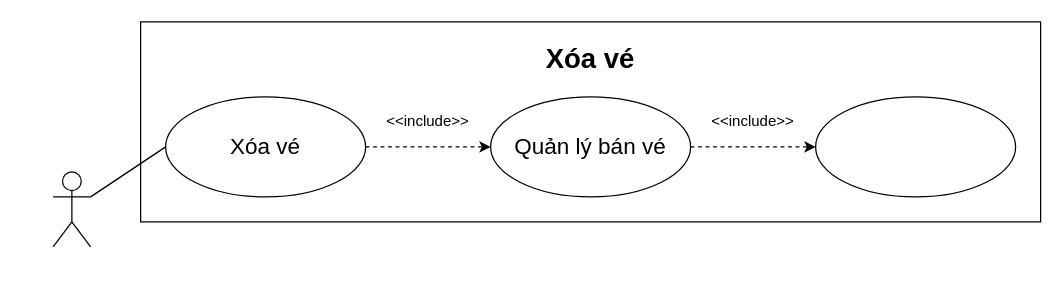
Image size: 1063x305. Some labels were removed from this diagram. Each missing label, with the centre of its shape:
"Login" belongs at (915,146).
"Nhân viên" belongs at (71,209).
